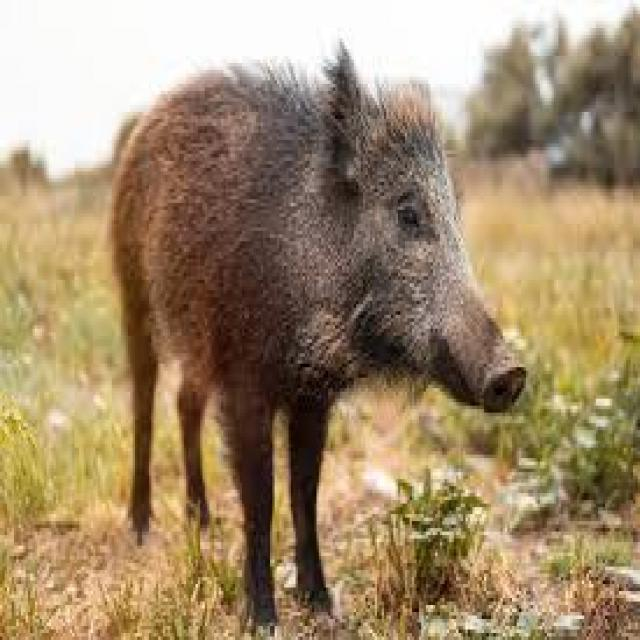boar: (81, 19, 500, 640)
